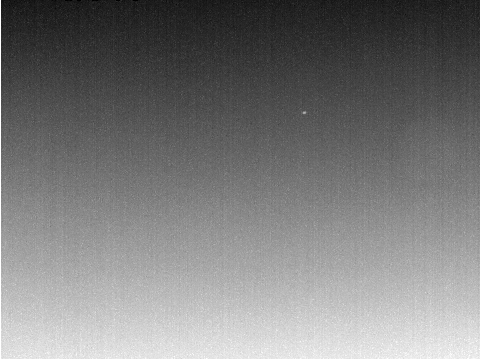dim target: (301, 110, 306, 116)
